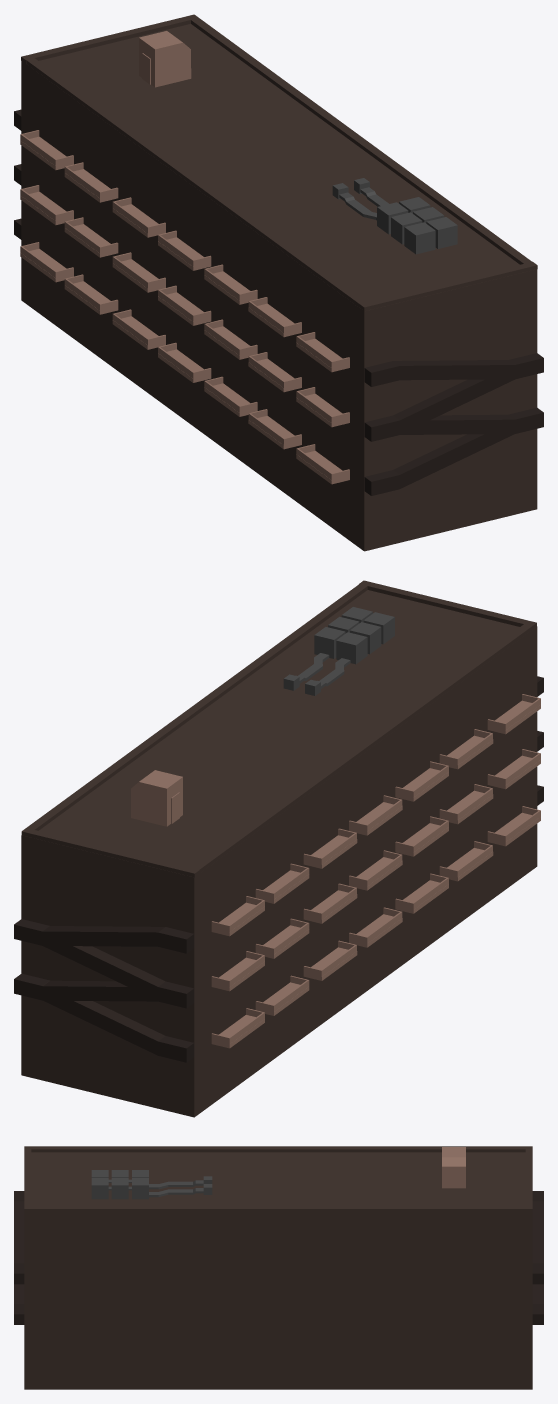
The model's file is lowpolybuilding1.obj.
The picture shows the model from 3 angles, top to bottom: view 1: azimuth 30°, elevation 25°; view 2: azimuth 150°, elevation 25°; view 3: azimuth 270°, elevation 25°; orthographic projection. The views are drawn at different scales.
Visible parts, largest first — view 1: Cube, Cube.024, Cube.026, Cube.032, Cube.022, Cube.013, Cube.020, Cube.002, Cube.008, Cube.007, Cube.009, Cube.015 (+14 smaller); view 2: Cube, Cube.021, Cube.026, Cube.032, Cube.022, Cube.014, Cube.023, Cube.001, Cube.007, Cube.005, Cube.011, Cube.018 (+14 smaller); view 3: Cube, Cube.026, Cube.021, Cube.032, Cube.024, Cube.022, Cube.033, Cube.040.
Part boxes in pixels (x1,y1,x2,y2): Cube: [21, 24, 537, 551]; Cube.024: [364, 353, 543, 495]; Cube.026: [21, 14, 537, 311]; Cube.032: [377, 197, 457, 254]; Cube.022: [139, 31, 191, 87]; Cube.013: [64, 217, 118, 257]; Cube.020: [64, 162, 118, 202]; Cube.002: [64, 274, 118, 314]; Cube.008: [296, 387, 349, 427]; Cube.007: [296, 444, 349, 484]; Cube.009: [248, 352, 301, 392]; Cube.015: [296, 332, 349, 372]; Cube: [21, 590, 537, 1117]; Cube.021: [14, 919, 194, 1062]; Cube.026: [21, 580, 536, 877]; Cube.032: [314, 607, 394, 664]; Cube.022: [131, 770, 182, 826]; Cube.014: [303, 883, 357, 923]; Cube.023: [303, 828, 357, 868]; Cube.001: [303, 940, 357, 980]; Cube.007: [487, 806, 540, 846]; Cube.005: [395, 873, 448, 913]; Cube.011: [349, 850, 402, 890]; Cube.018: [349, 795, 402, 835]; Cube: [24, 1152, 532, 1389]; Cube.026: [24, 1146, 532, 1211]; Cube.021: [532, 1191, 543, 1324]; Cube.032: [91, 1170, 148, 1199]; Cube.024: [14, 1191, 24, 1324]; Cube.022: [442, 1147, 465, 1188]; Cube.033: [149, 1180, 203, 1189]; Cube.040: [149, 1188, 203, 1197].
Size of the model in its own units: 6.51 by 9.03 by 21.03.
